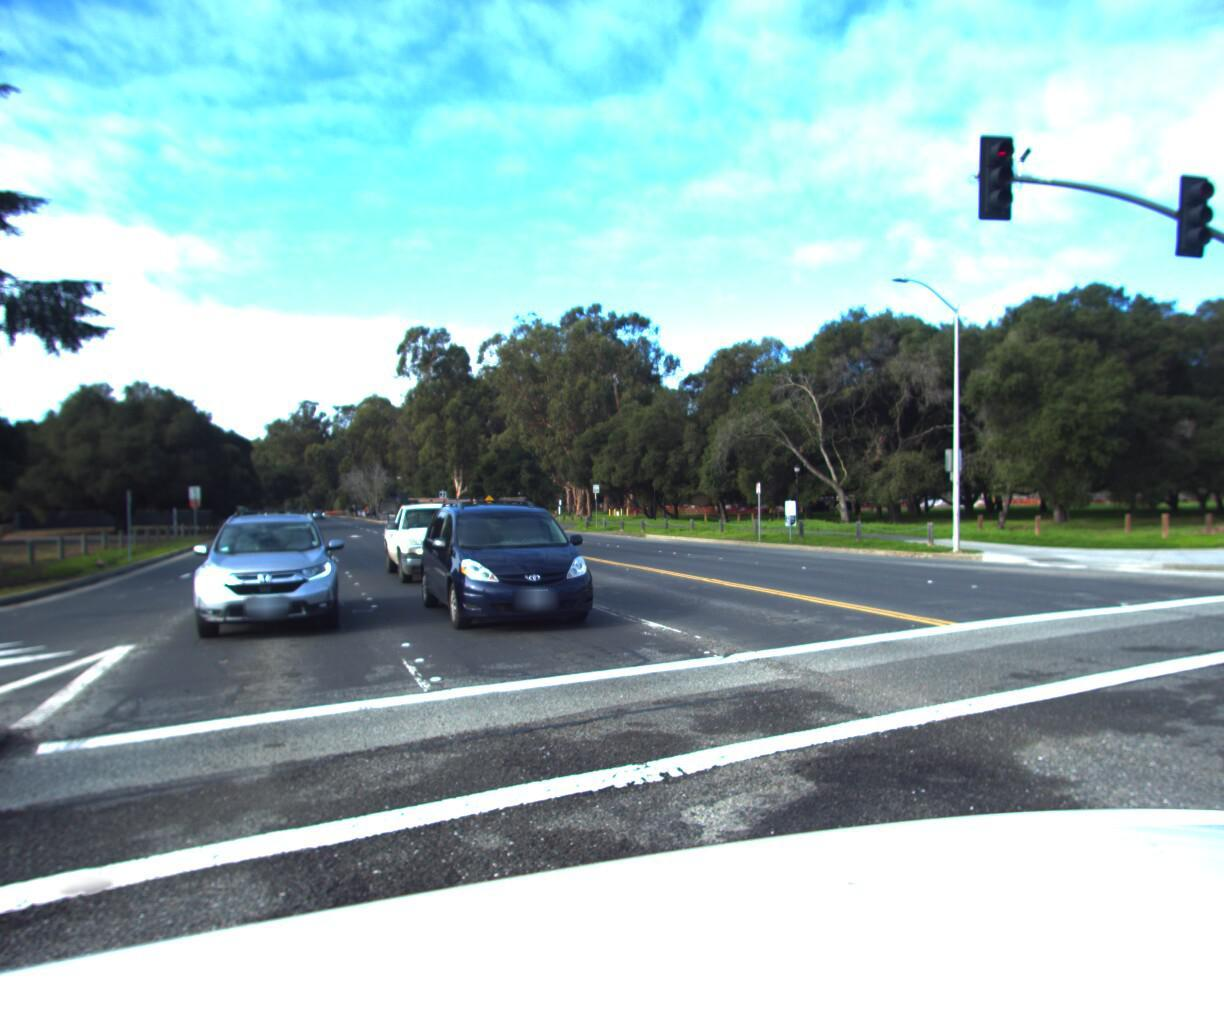car: (407, 480, 617, 631), (179, 501, 348, 644), (378, 475, 496, 579)
